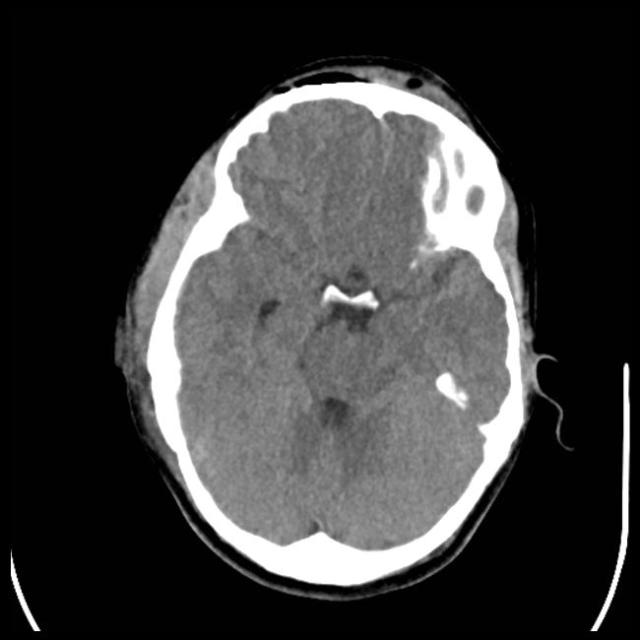lesion: (118, 63, 552, 593)
